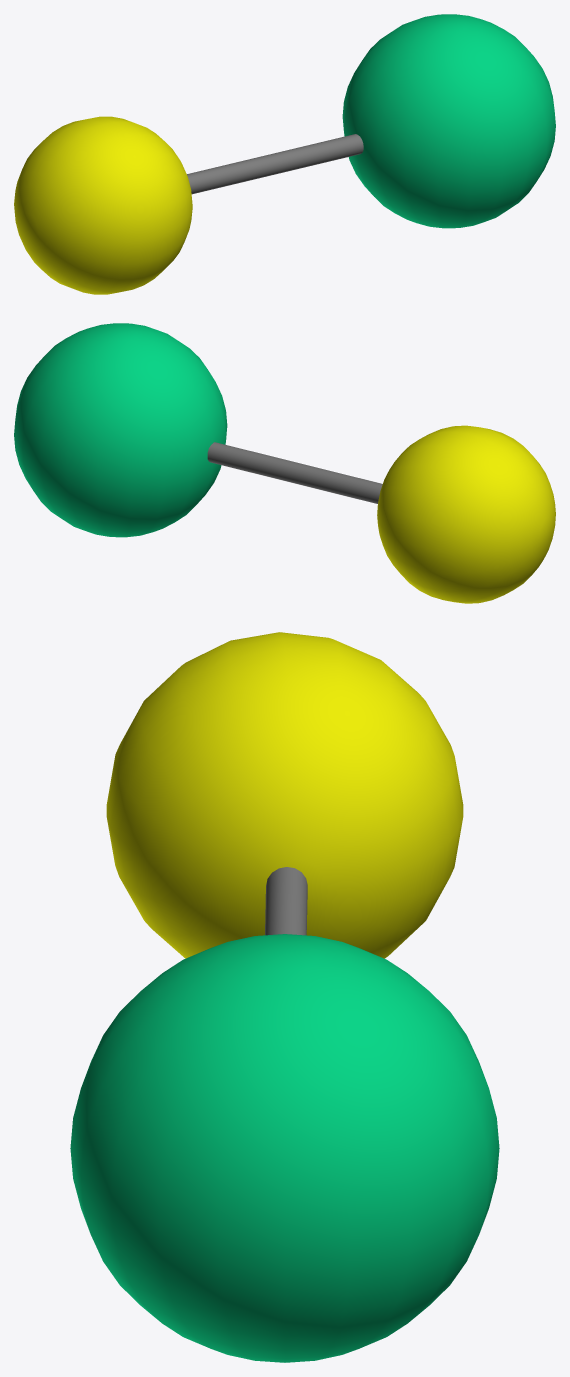
3 views of the same model, one above another, from view 1: azimuth 30°, elevation 25°; view 2: azimuth 150°, elevation 25°; view 3: azimuth 270°, elevation 25° (orthographic). The views are drawn at different scales.
Visible parts, largest first — view 1: KH; view 2: KH; view 3: KH.
Boxes of the visible parts, <box> form: KH: <box>14,14,555,294</box>; KH: <box>14,323,555,603</box>; KH: <box>70,632,499,1362</box>.
Size of the model in its own units: 5.56 by 2 by 2.
